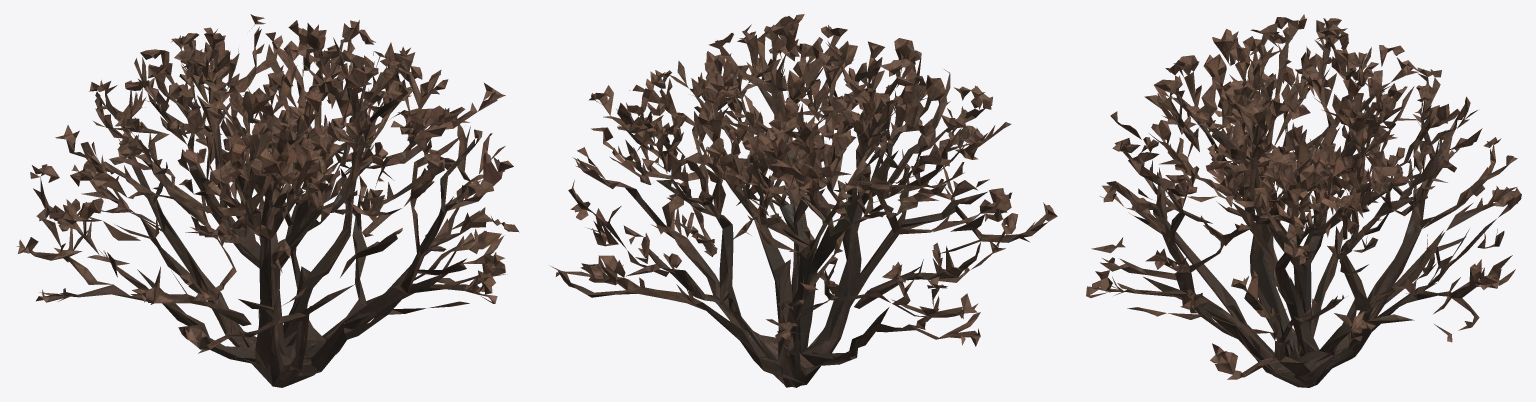
Rendered from native_shrub.glb.
3 views of the same model, side by side, from view 1: azimuth 30°, elevation 25°; view 2: azimuth 150°, elevation 25°; view 3: azimuth 270°, elevation 25° (orthographic). The views are drawn at different scales.
Bounding box in the file's own units: 1.81 × 1.34 × 1.59.
Materials: 1 (1 with a texture image).
